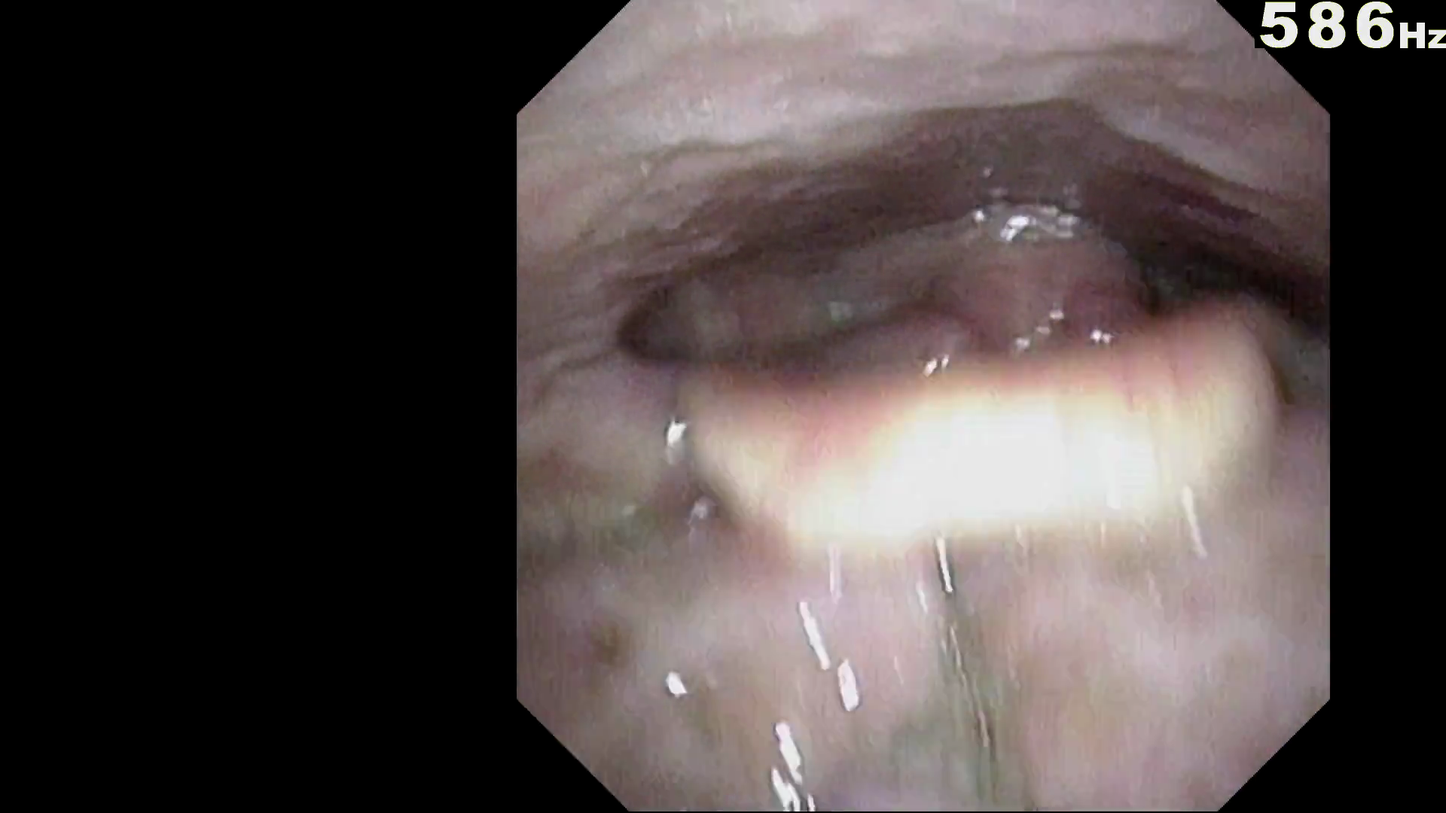epiglottis: (692, 310, 1272, 546)
trachea: (971, 360, 1067, 490)
